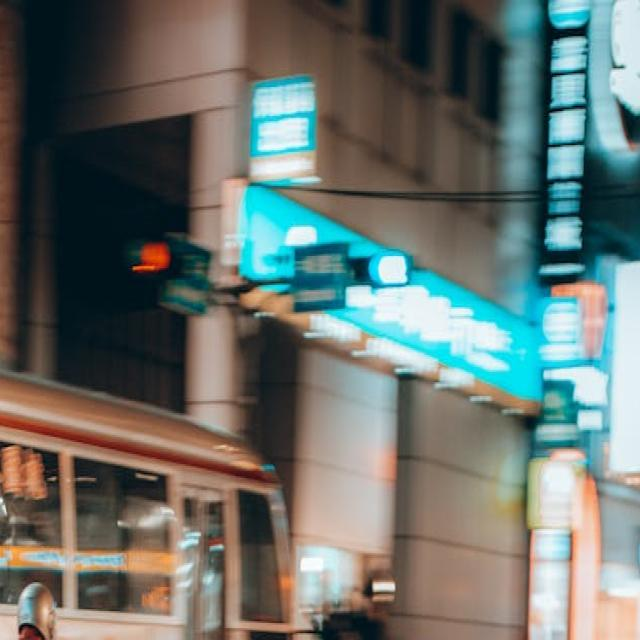bus: (0, 298, 296, 640)
car: (318, 635, 481, 640)
motorbike: (0, 585, 127, 640)
